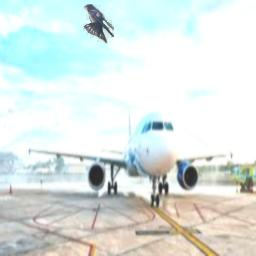Swallow: (83, 4, 114, 44)
